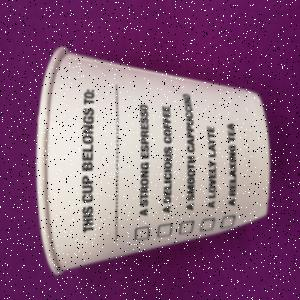Cup: (36, 46, 272, 277)
